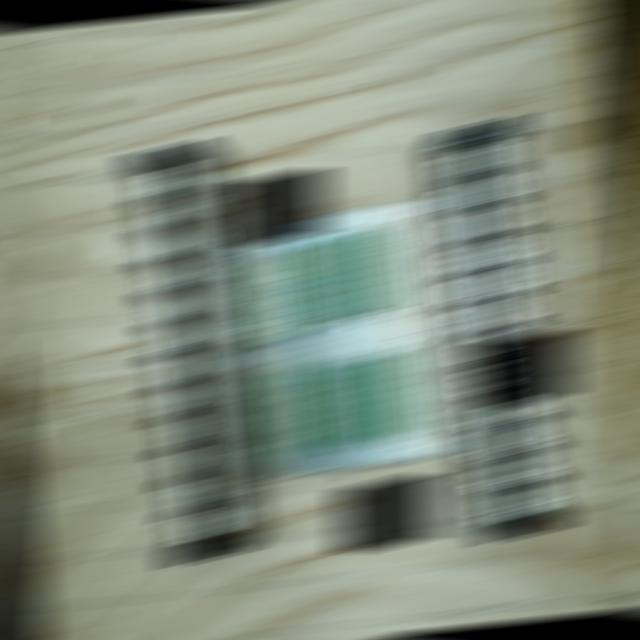Flathead_Block: (130, 142, 247, 561)
Phillips_Block: (442, 119, 562, 539)
Terminal_1: (266, 365, 314, 454), (254, 254, 301, 341)
Terminal_2: (318, 361, 366, 445), (306, 234, 352, 319), (330, 231, 376, 315), (370, 354, 415, 438), (345, 359, 390, 442)
